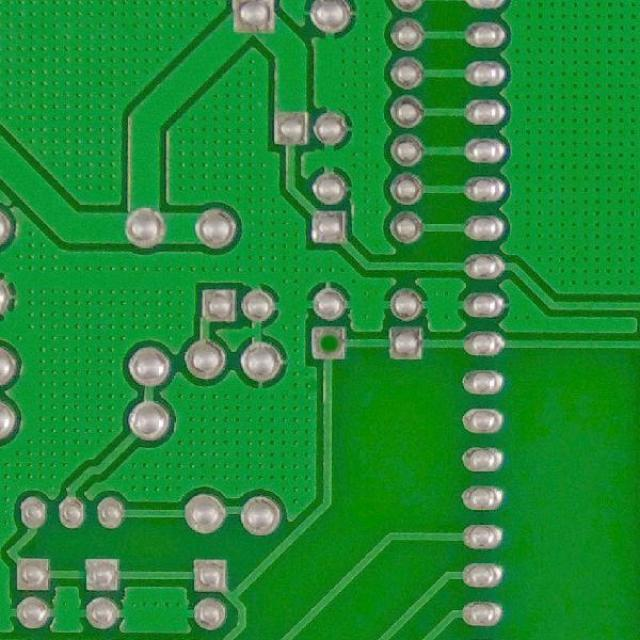Missing_Hole: (307, 323, 351, 364)
